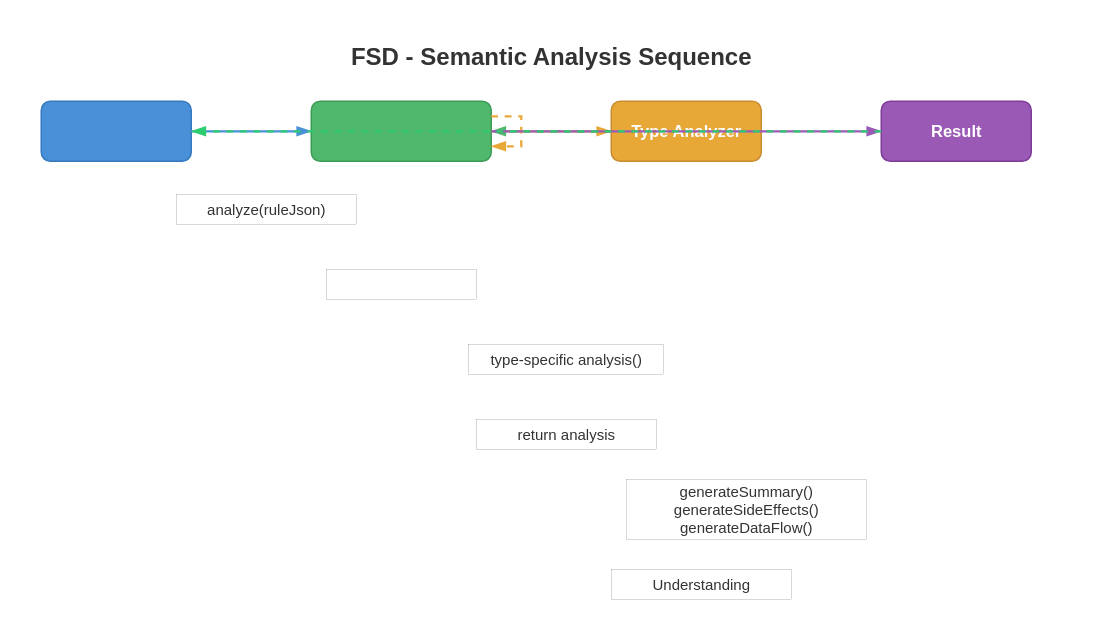
Some shapes in this 1101 by 638 pixel diagram are drawn without their labels. Each missing label, with the centre of its shape:
"Client" goes at [115,130].
"determineType()" goes at [401,283].
"Semantic Analyzer" goes at [400,130].
